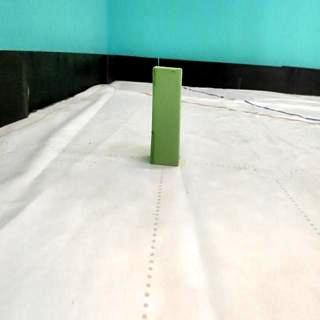greenbox: (149, 64, 183, 170)
